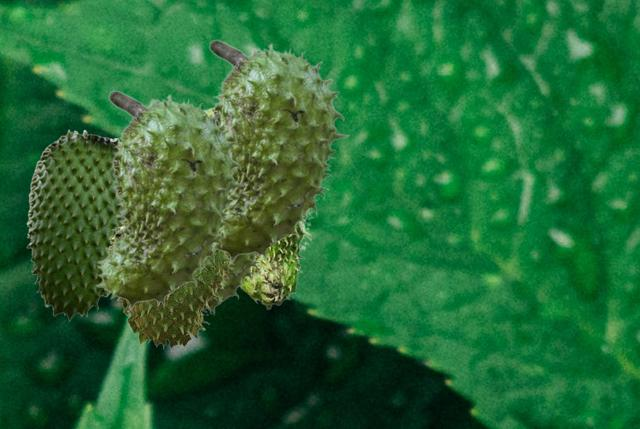guyabano: (94, 90, 246, 311), (208, 39, 349, 264), (206, 107, 313, 309), (26, 129, 123, 320), (108, 226, 235, 351), (204, 253, 261, 316)
